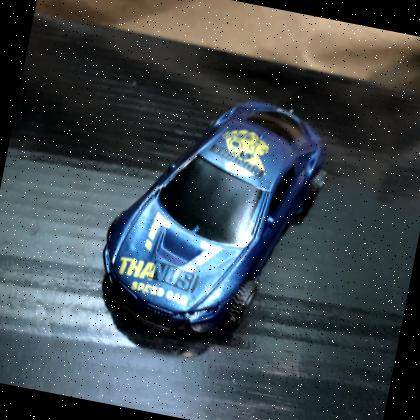Car: (102, 102, 328, 341)
